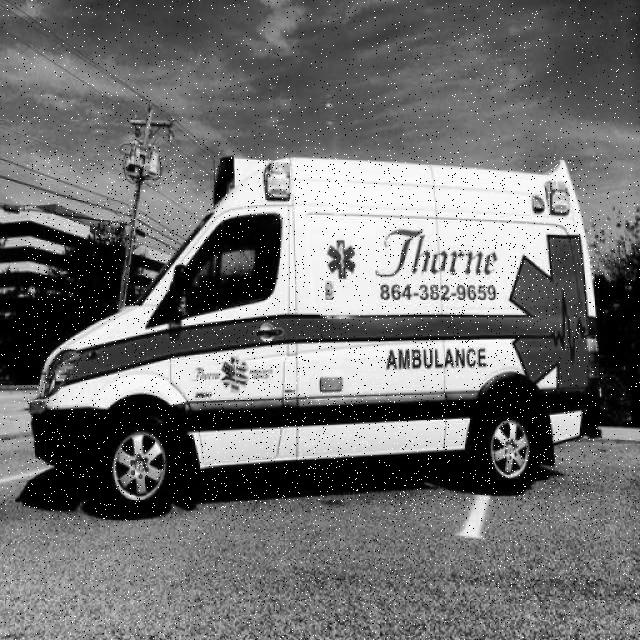Ambulance: (27, 156, 601, 521)
